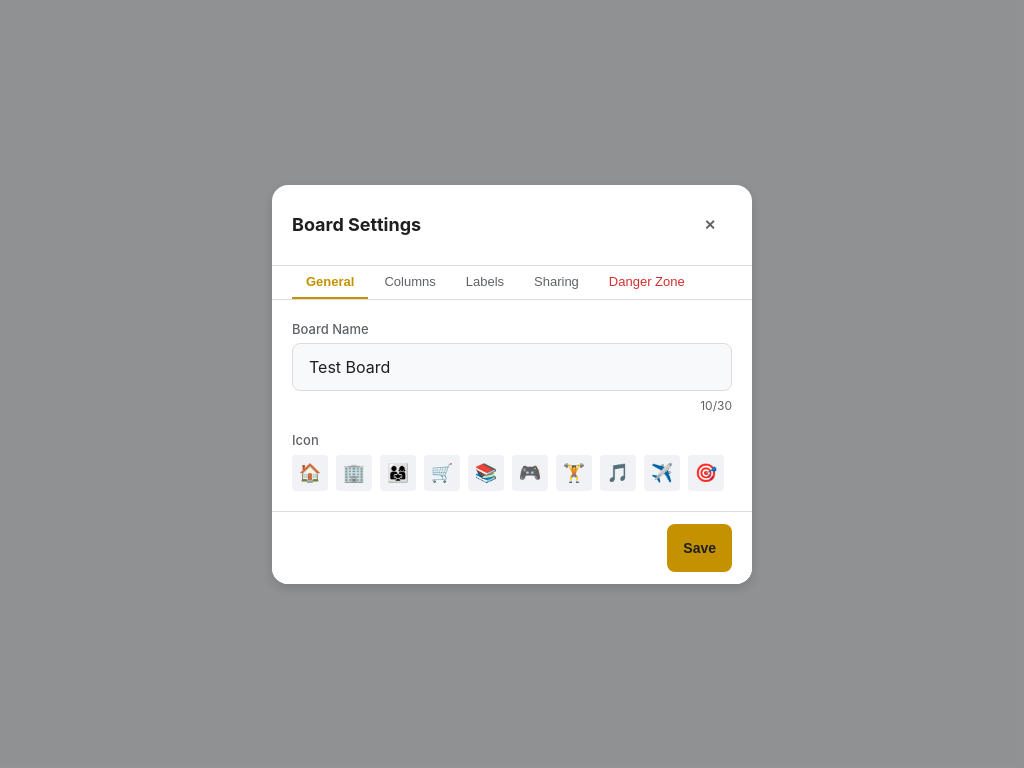
ShareModal sharing behavior (Issue #42, preserved in #138) › AC5: "Share with all owners" toggle › renders toggle checked when wildcard entry exists
Click the tab with test id "settings-tab-sharing": [556, 282] box [520,266,593,298]
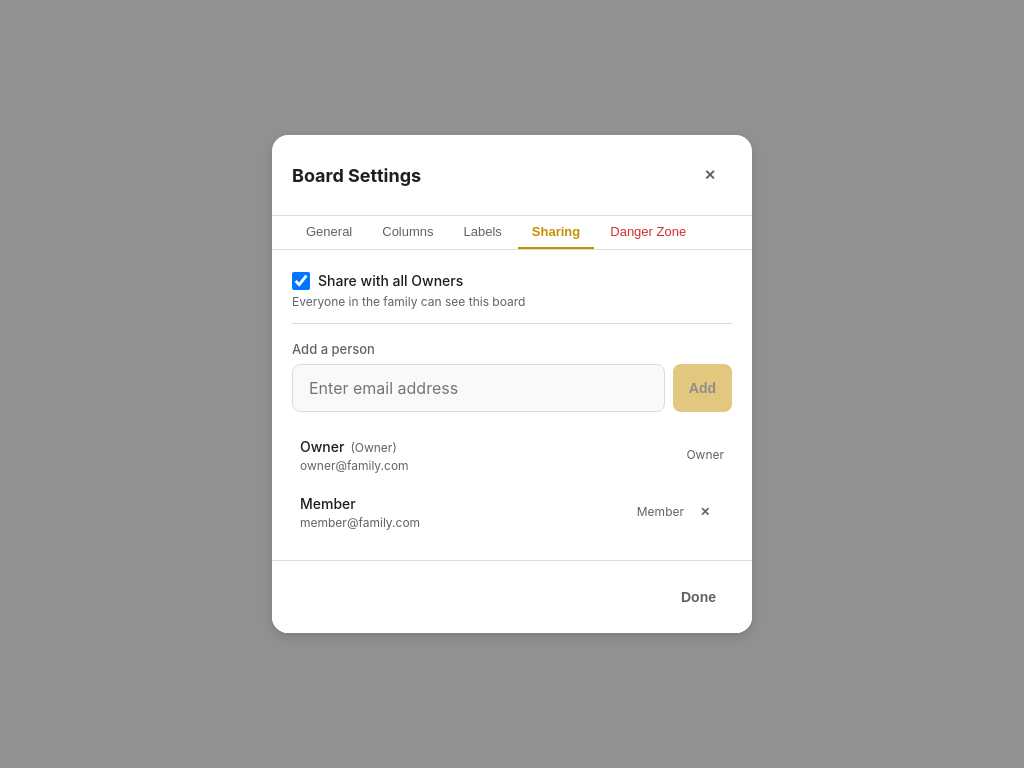
Expected: the checkbox with test id "share-all-toggle" showing "Share with all Owners" is checked, [292,272,310,290]
